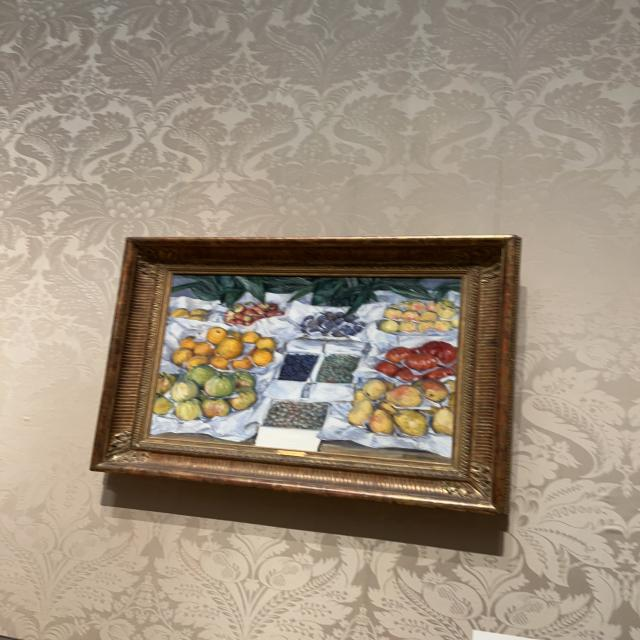fruits: (147, 276, 464, 466)
